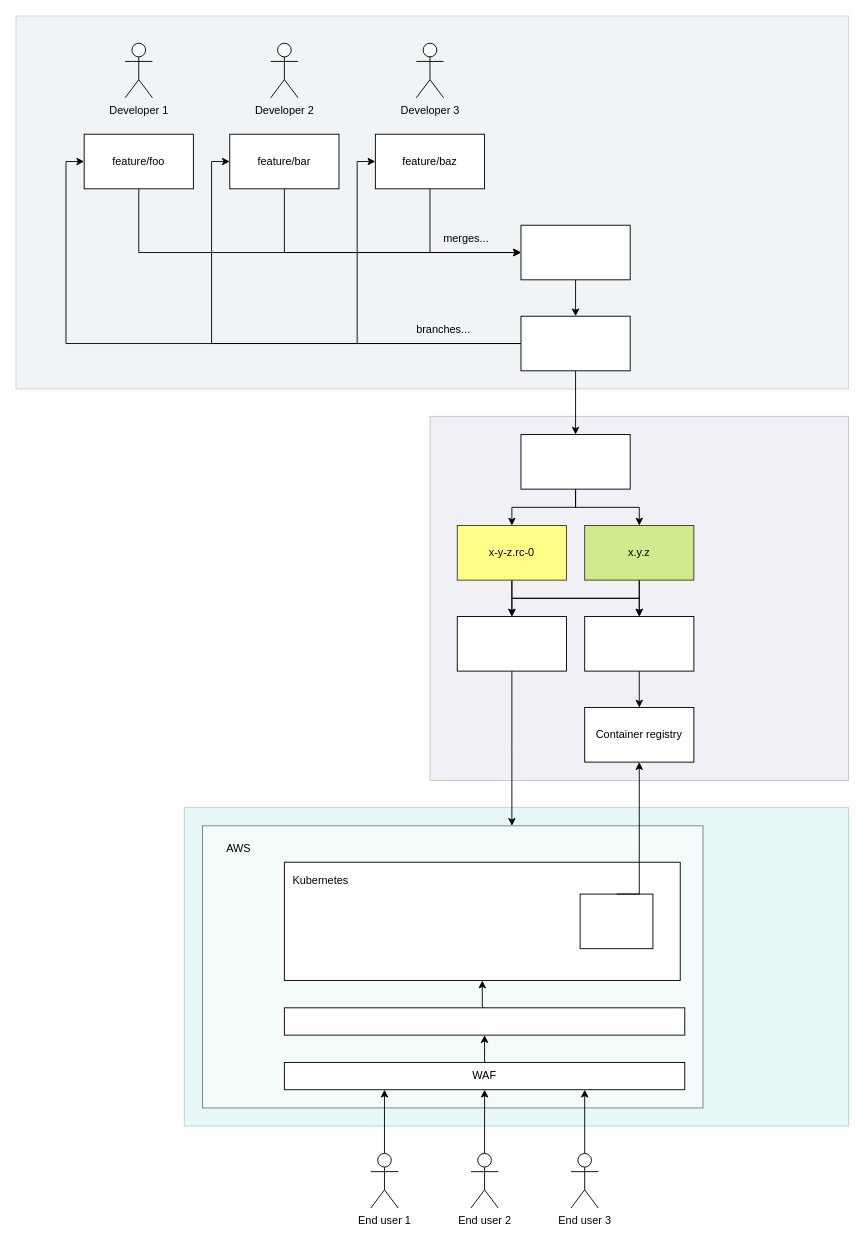
The diagram is 865 pixels wide and 1243 high, and some of its shapes have lost their labels. The shapes that lost their labels are listed below. From the top down, each one's centre as x and y in pixels, then its label:
At (x=575, y=252): "GitHub Actions e2e, unit, integration".
At (x=575, y=343): "main".
At (x=575, y=461): "release/x-y".
At (x=511, y=643): "CI (infra)".
At (x=639, y=643): "CI (product)".
At (x=616, y=921): "ArgoCD".
At (x=484, y=1021): "ALB".
